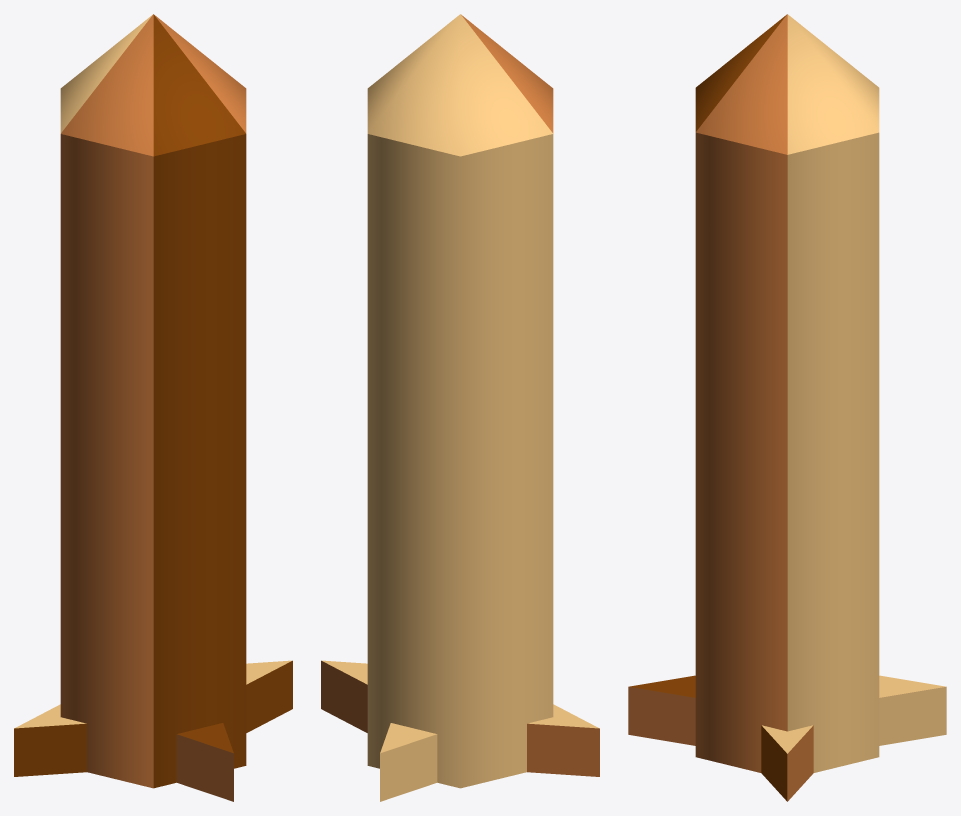
The model's file is Solo.MissileMesh.UmberWilds.glb.
The picture shows the model from 3 angles, left to right: view 1: azimuth 30°, elevation 25°; view 2: azimuth 150°, elevation 25°; view 3: azimuth 270°, elevation 25°; orthographic projection.
Visible parts, largest first — view 1: Solo.MissileMesh.UmberWilds; view 2: Solo.MissileMesh.UmberWilds; view 3: Solo.MissileMesh.UmberWilds.
Boxes of the visible parts, left/top/right/bottom form: Solo.MissileMesh.UmberWilds: left=14, top=14, right=292, bottom=801; Solo.MissileMesh.UmberWilds: left=321, top=14, right=599, bottom=801; Solo.MissileMesh.UmberWilds: left=628, top=14, right=946, bottom=801.
Bounding box in the file's own units: 0.6 × 1.5 × 0.6.
Materials: 1 (1 with a texture image).
